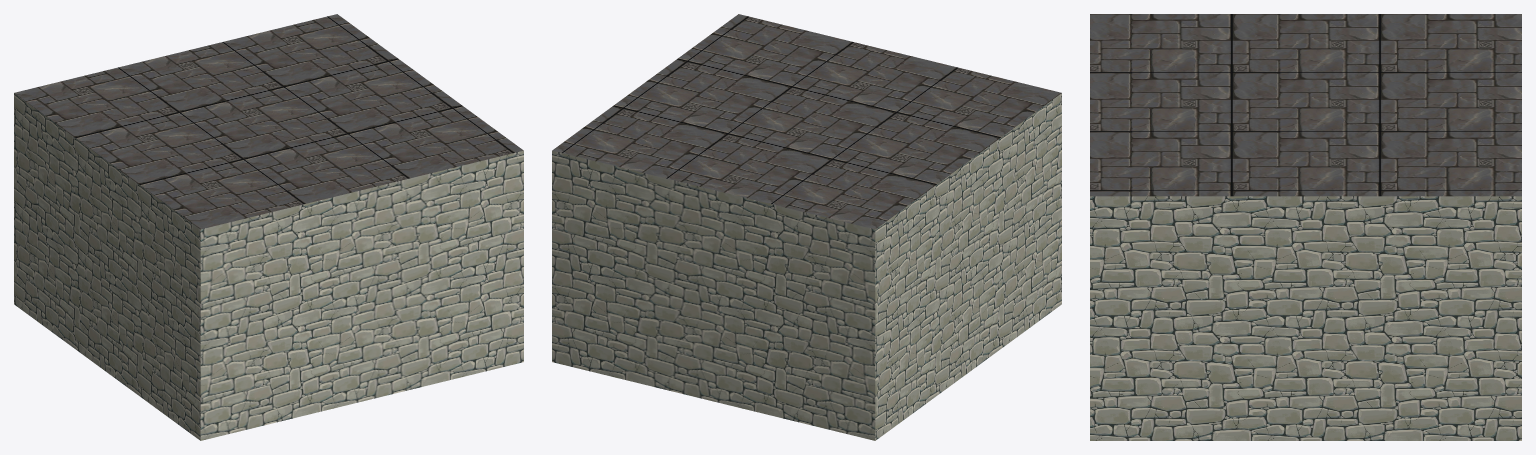
The model's file is salle4_2.obj.
The picture shows the model from 3 angles, left to right: view 1: azimuth 30°, elevation 25°; view 2: azimuth 150°, elevation 25°; view 3: azimuth 270°, elevation 25°; orthographic projection. The views are drawn at different scales.
Visible parts, largest first — view 1: pPlane2, pPlane3, pasted__pasted__pasted__pPlane2 pasted__pasted__group pasted__gr; view 2: pasted__pPlane2 group4, pPlane3, pasted__pasted__pasted__pPlane2 pasted__pasted__group pasted__gr; view 3: pasted__pPlane2 group3, pPlane3.
Boxes of the visible parts, box(x1,y1,x2,y2) form: pPlane2: box(200, 150, 523, 440); pPlane3: box(14, 14, 523, 229); pasted__pasted__pasted__pPlane2 pasted__pasted__group pasted__gr: box(14, 93, 200, 440); pasted__pPlane2 group4: box(552, 150, 875, 440); pPlane3: box(552, 14, 1061, 229); pasted__pasted__pasted__pPlane2 pasted__pasted__group pasted__gr: box(875, 93, 1061, 440); pasted__pPlane2 group3: box(1090, 196, 1521, 440); pPlane3: box(1090, 14, 1521, 196).
Bounding box in the file's own units: 96 × 60 × 96.
Materials: 51 (51 with a texture image).
